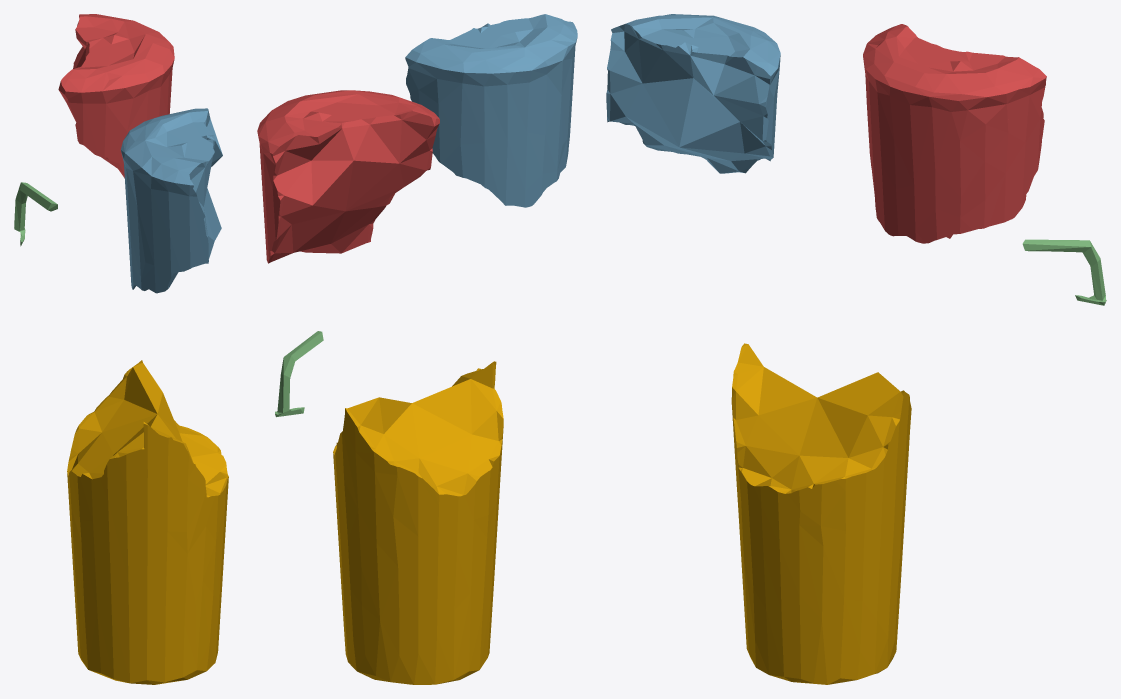
The model's file is mode_4_4pcs_transformed.glb.
3 views of the same model, side by side, from view 1: azimuth 30°, elevation 25°; view 2: azimuth 150°, elevation 25°; view 3: azimuth 270°, elevation 25° (orthographic). The views are drawn at different scales.
Visible parts, largest first — view 1: piece_0.obj, piece_2.obj, piece_1.obj, piece_3.obj; view 2: piece_0.obj, piece_2.obj, piece_1.obj, piece_3.obj; view 3: piece_0.obj, piece_1.obj, piece_2.obj, piece_3.obj.
Part boxes in pixels (bbox=[...]): piece_0.obj: bbox=[67, 360, 228, 684]; piece_2.obj: bbox=[121, 108, 222, 293]; piece_1.obj: bbox=[58, 14, 174, 177]; piece_3.obj: bbox=[14, 182, 57, 246]; piece_0.obj: bbox=[333, 361, 503, 684]; piece_2.obj: bbox=[405, 14, 577, 207]; piece_1.obj: bbox=[257, 90, 439, 263]; piece_3.obj: bbox=[275, 331, 323, 417]; piece_0.obj: bbox=[731, 343, 911, 684]; piece_1.obj: bbox=[863, 24, 1046, 243]; piece_2.obj: bbox=[606, 14, 780, 173]; piece_3.obj: bbox=[1022, 239, 1106, 305].
Bounding box in the file's own units: 0.4212 × 1.47 × 1.09.
